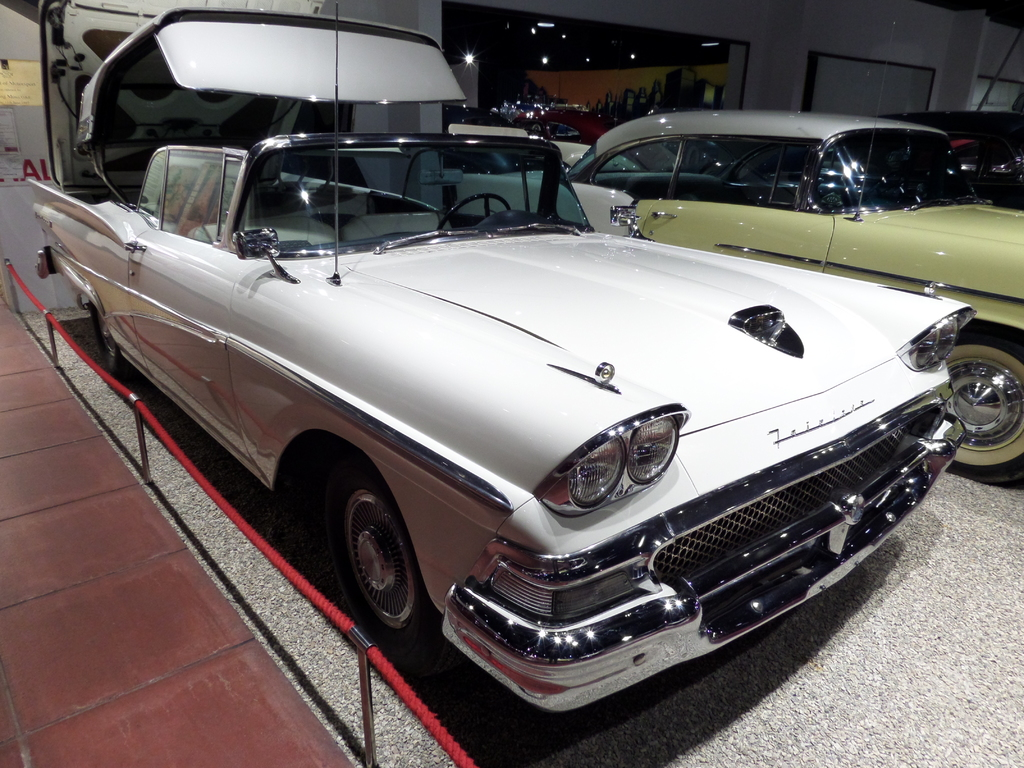Car: (36, 5, 977, 716), (460, 110, 1023, 478), (938, 119, 1023, 200)
